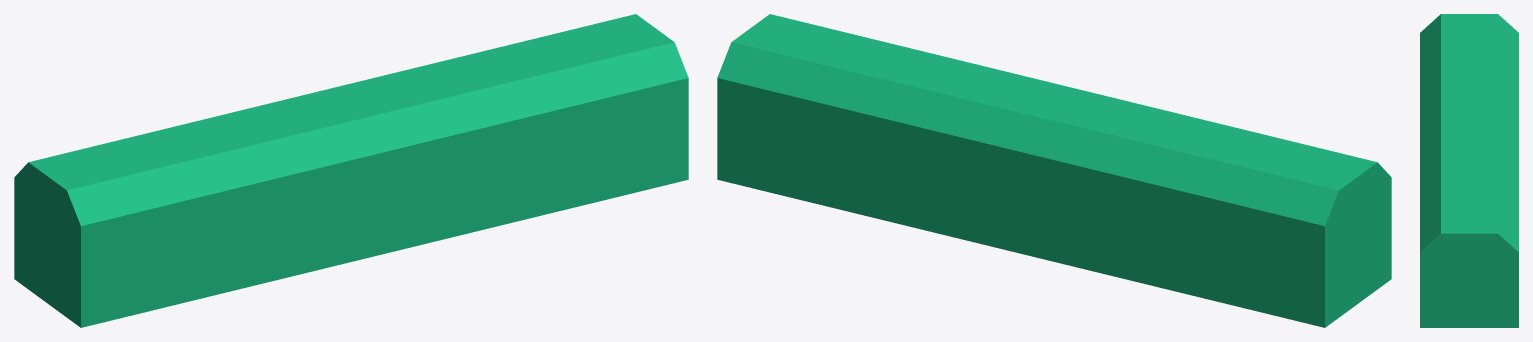
The model's file is Hedge_FlatEnd.fbx.
3 views of the same model, side by side, from view 1: azimuth 30°, elevation 25°; view 2: azimuth 150°, elevation 25°; view 3: azimuth 270°, elevation 25° (orthographic). The views are drawn at different scales.
Parts seen in each view (by area): view 1: hedge; view 2: hedge; view 3: hedge.
Boxes of the visible parts, x1,y1,x2,y2 form: hedge: (14,14,688,327); hedge: (717,14,1391,327); hedge: (1420,14,1518,327).
Bounding box in the file's own units: 1000 × 200 × 190.
